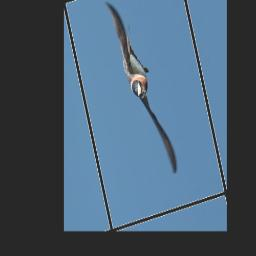Swallow: (102, 0, 179, 186)
